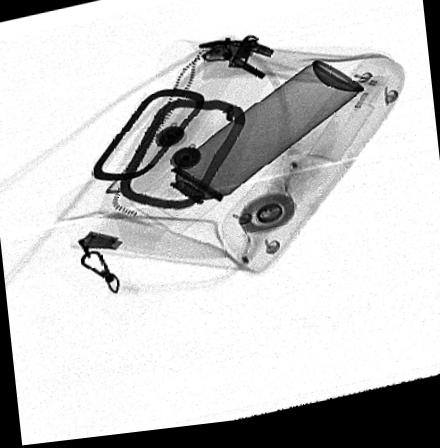Sprayer: (130, 66, 367, 239)
